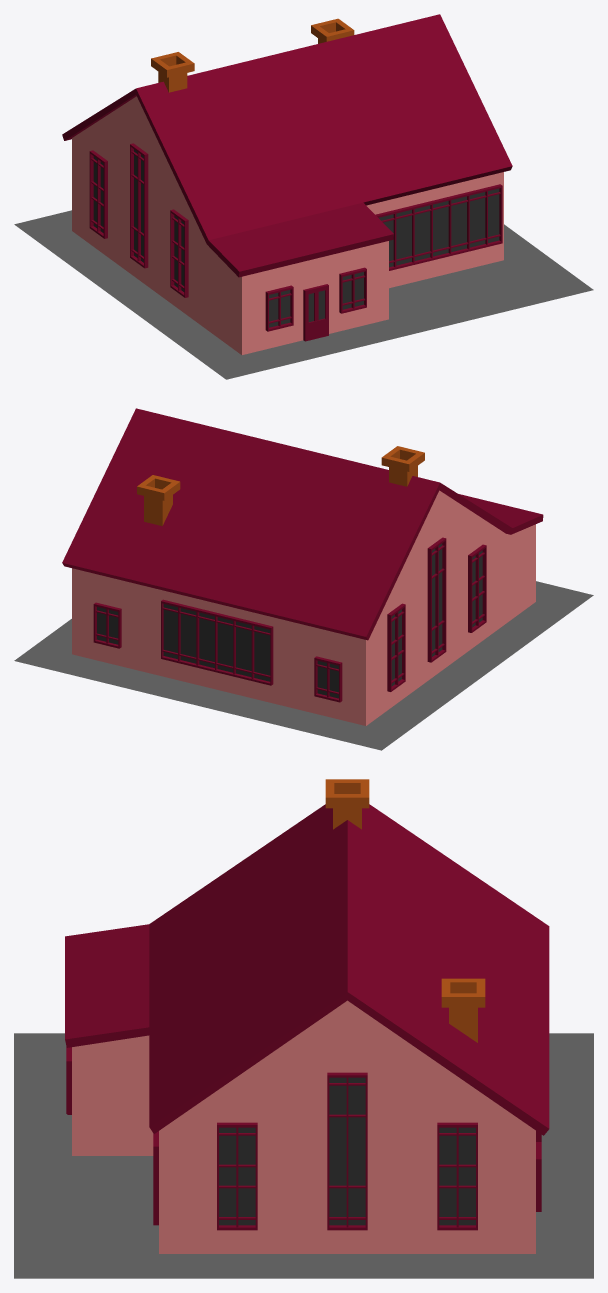
File: house_06.fbx
The picture shows the model from 3 angles, top to bottom: view 1: azimuth 30°, elevation 25°; view 2: azimuth 150°, elevation 25°; view 3: azimuth 270°, elevation 25°; orthographic projection. The views are drawn at different scales.
Visible parts, largest first — view 1: house_06; view 2: house_06; view 3: house_06.
Part boxes in pixels (x1,y1,x2,y2): house_06: (14, 14, 593, 379); house_06: (14, 408, 593, 750); house_06: (14, 779, 593, 1278).
Size of the model in its own units: 20 by 11.06 by 20.
